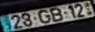1: (67, 3, 77, 19)
2: (10, 13, 23, 30), (73, 2, 86, 18)
8: (20, 12, 33, 27)
B: (48, 6, 63, 23)
G: (37, 8, 51, 23)
